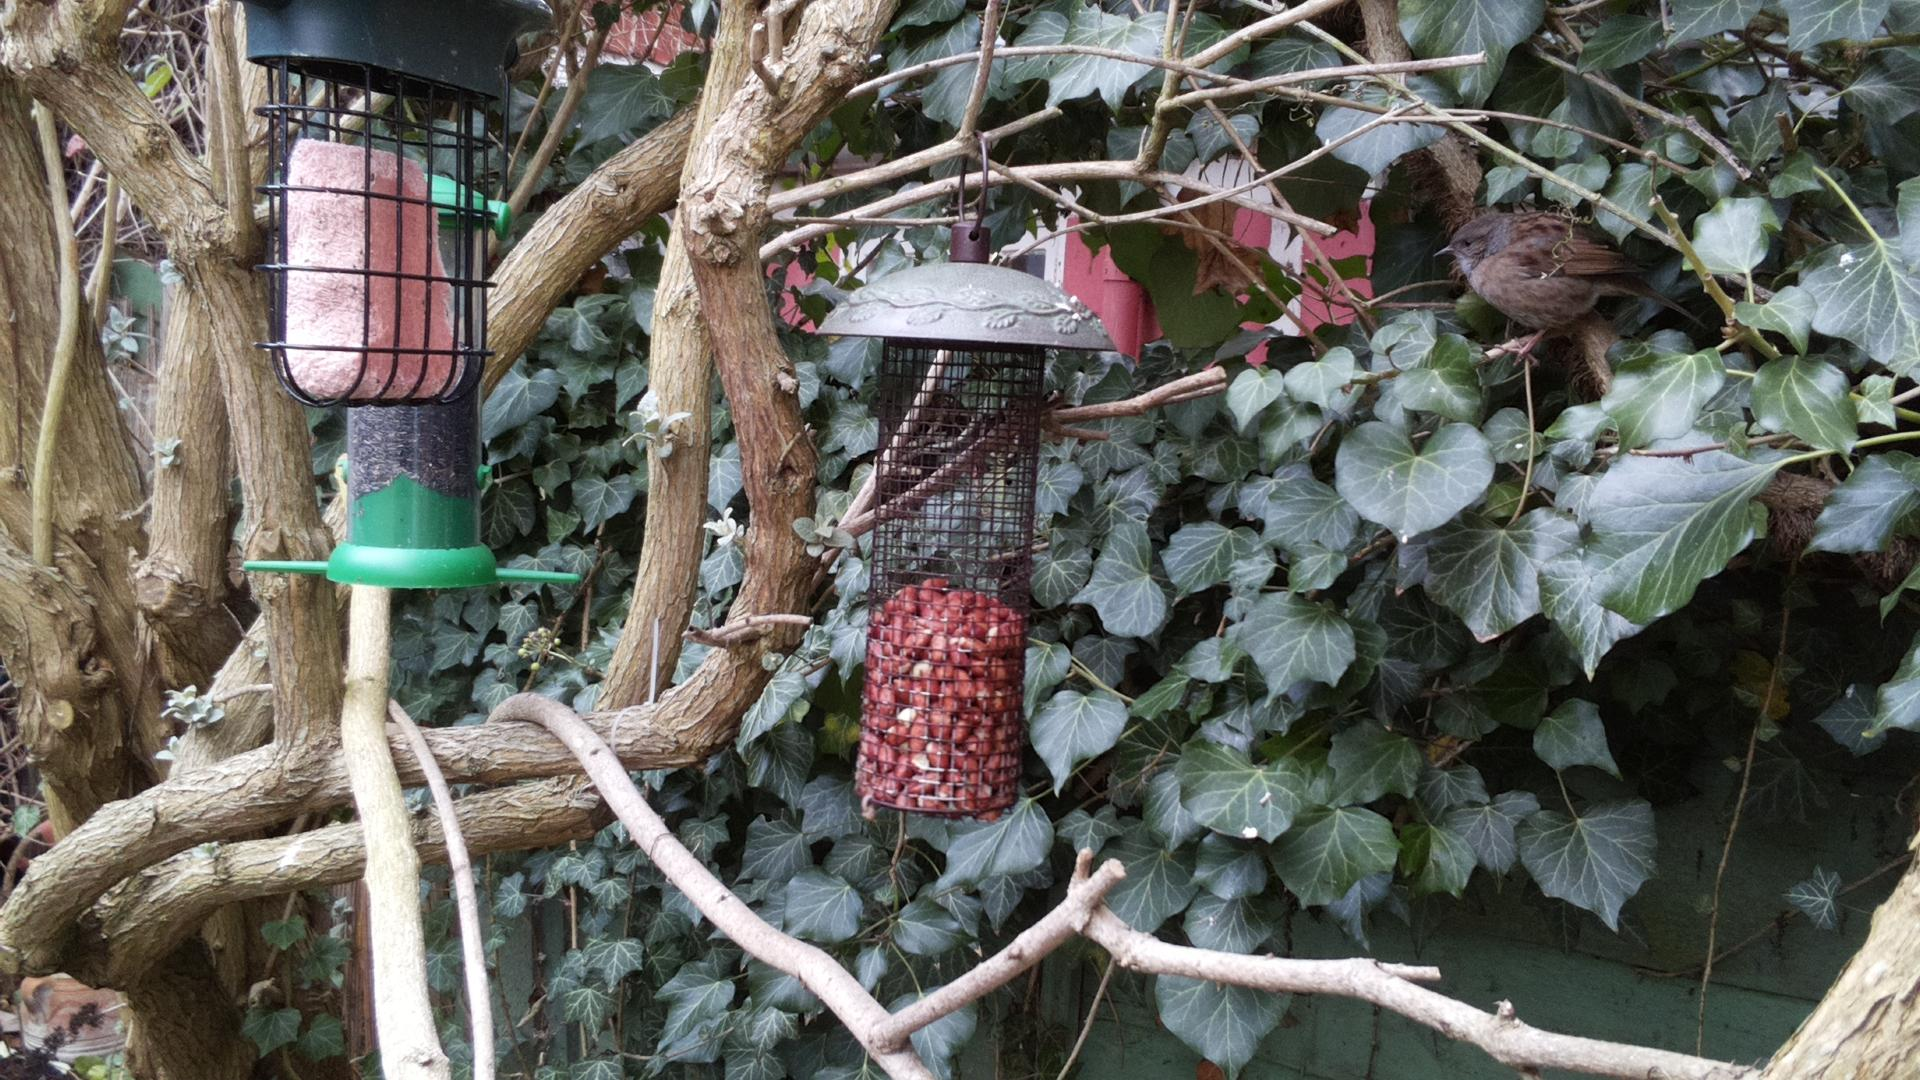dunnock: (1432, 211, 1709, 367)
